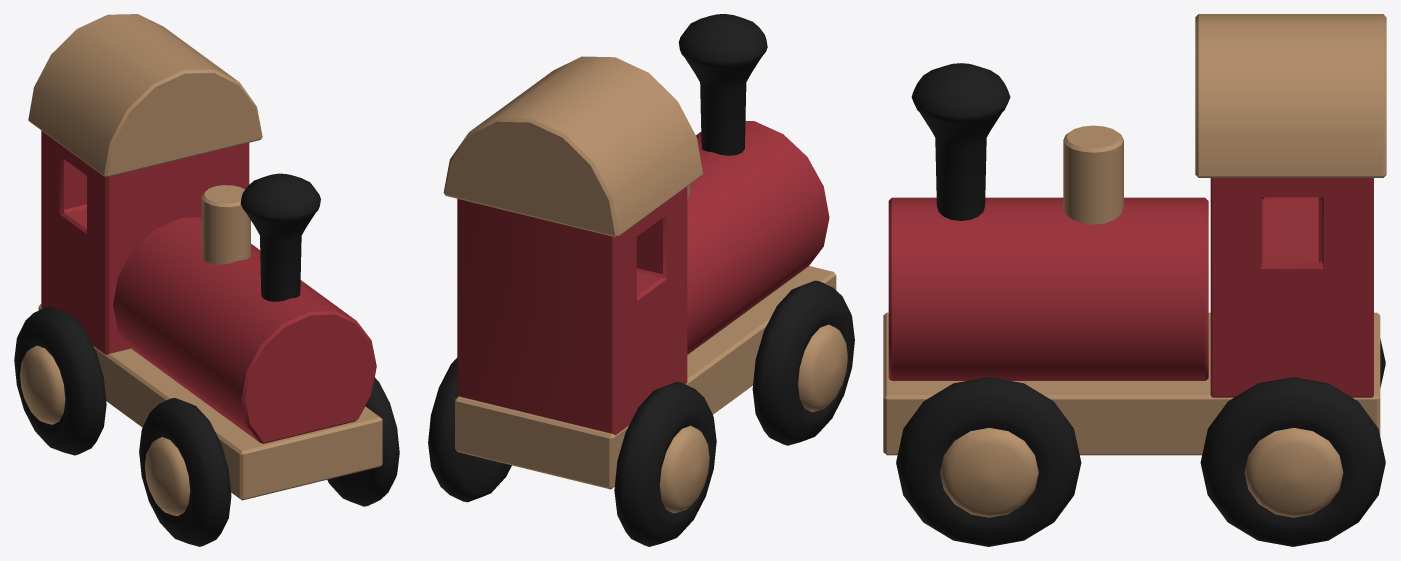
Rendered from Toy_Train.fbx.
The picture shows the model from 3 angles, left to right: view 1: azimuth 30°, elevation 25°; view 2: azimuth 150°, elevation 25°; view 3: azimuth 270°, elevation 25°; orthographic projection. The views are drawn at different scales.
Parts seen in each view (by area): view 1: Cube; view 2: Cube; view 3: Cube.
Part boxes in pixels (x1,y1,x2,y2): Cube: [14, 14, 399, 546]; Cube: [428, 14, 854, 546]; Cube: [883, 14, 1386, 546].
Size of the model in its own units: 7.86 by 12.79 by 12.34.
